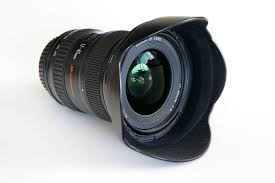camera: (40, 19, 223, 161)
